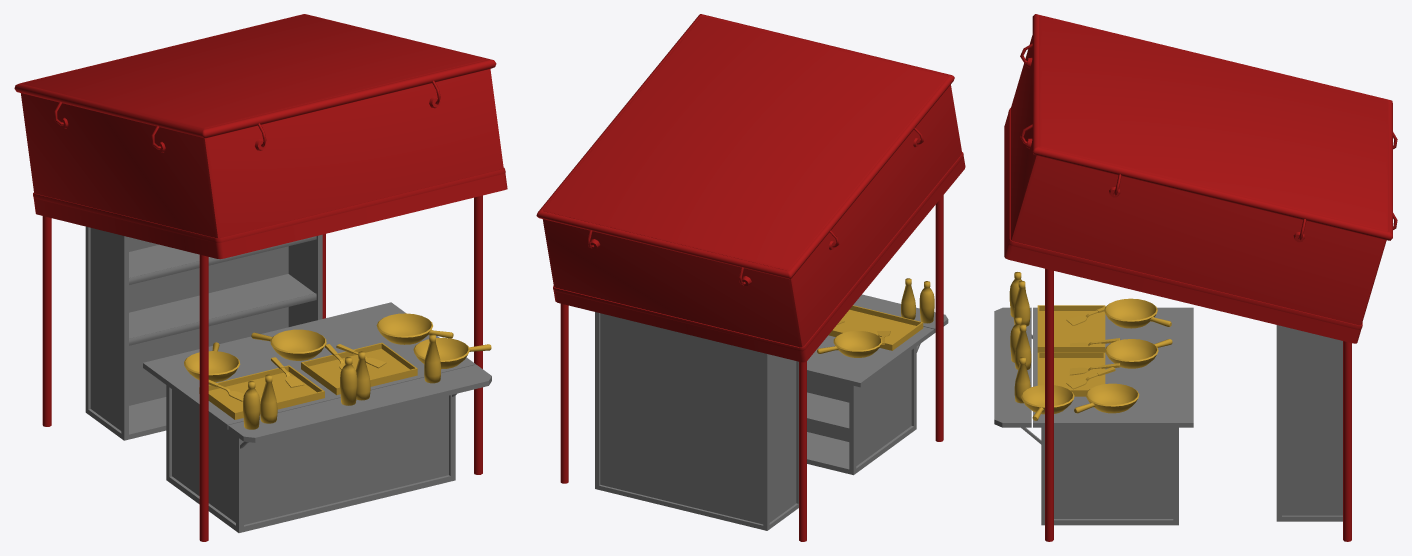
File: SM_yatai_yakisoba.fbx
3 renders of one model, left to right at view 1: azimuth 30°, elevation 25°; view 2: azimuth 150°, elevation 25°; view 3: azimuth 270°, elevation 25°, orthographic. The views are drawn at different scales.
Visible parts, largest first — view 1: Box488; view 2: Box488; view 3: Box488.
Part boxes in pixels (x1,y1,x2,y2): Box488: (14,14,507,541); Box488: (536,14,965,541); Box488: (994,14,1397,541).
Bounding box in the file's own units: 111 × 143 × 132.
